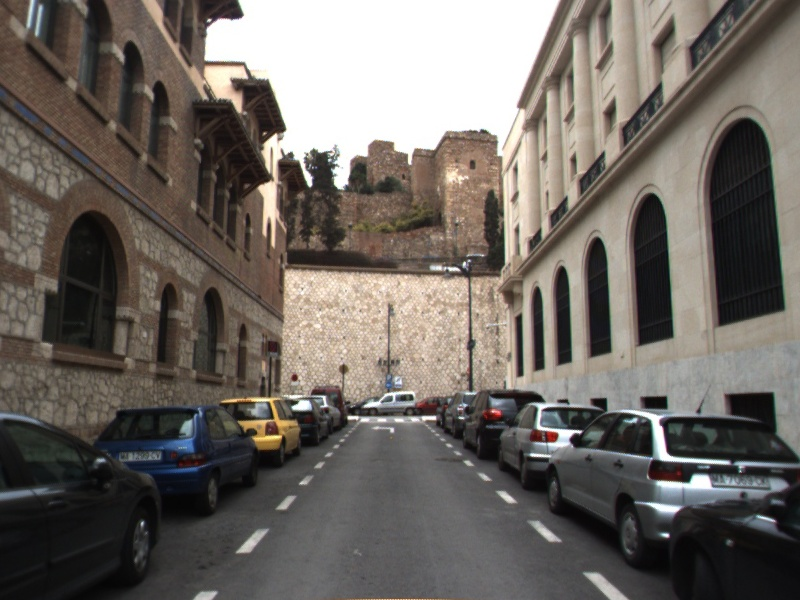LEFT: (369, 423, 397, 435)
